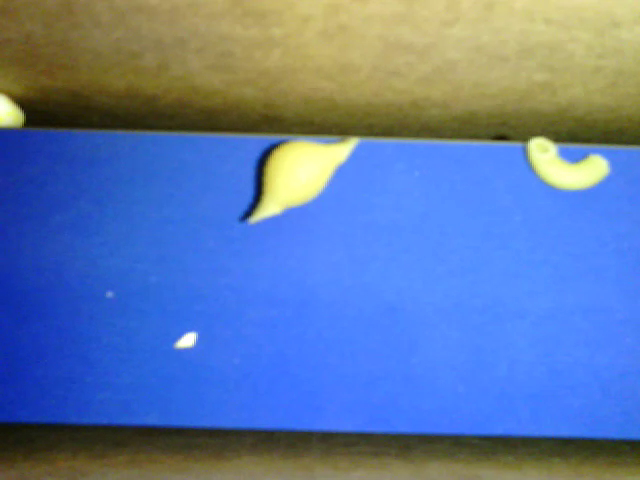elbow: (528, 136, 612, 191)
shell: (247, 136, 357, 224)
